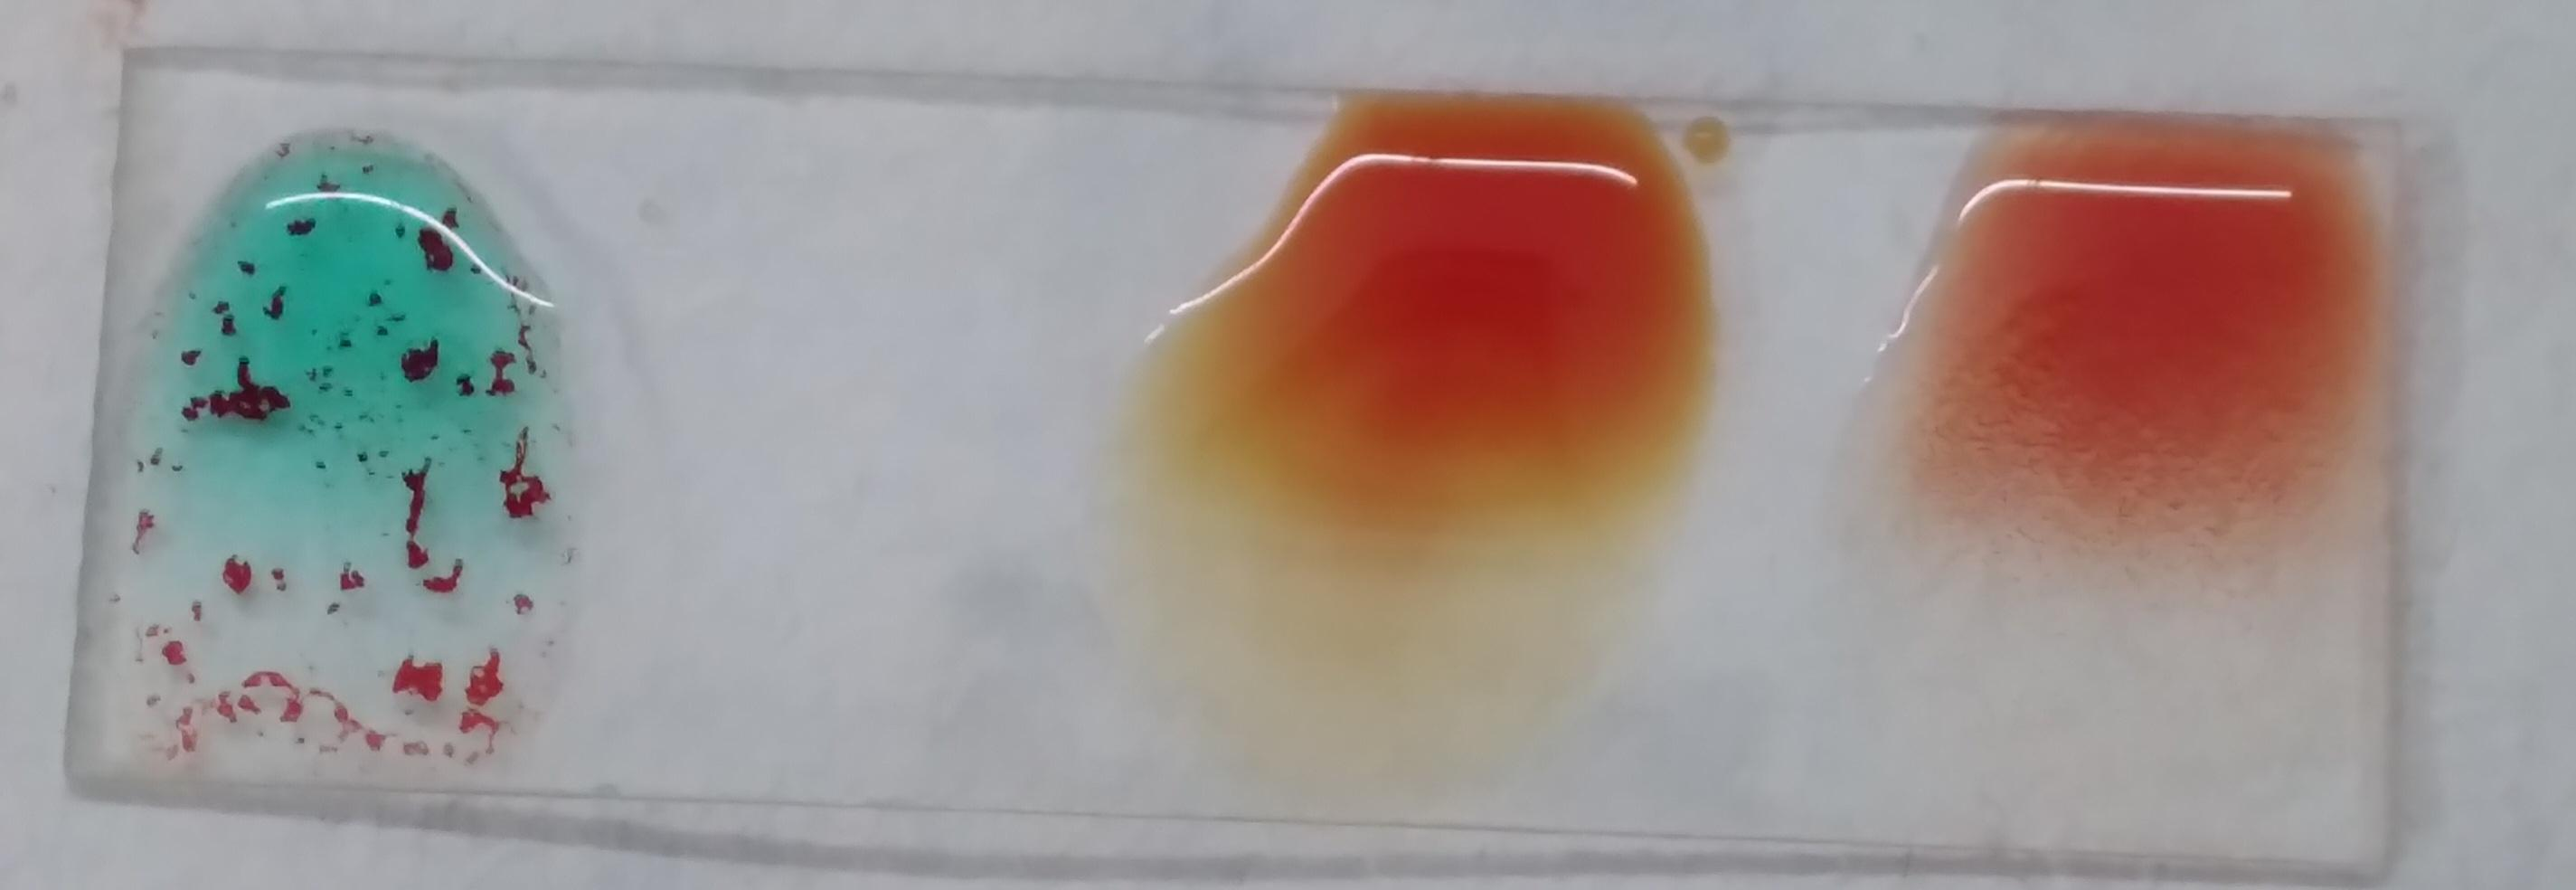A: (118, 125, 560, 757)
D: (1952, 141, 2356, 640)
